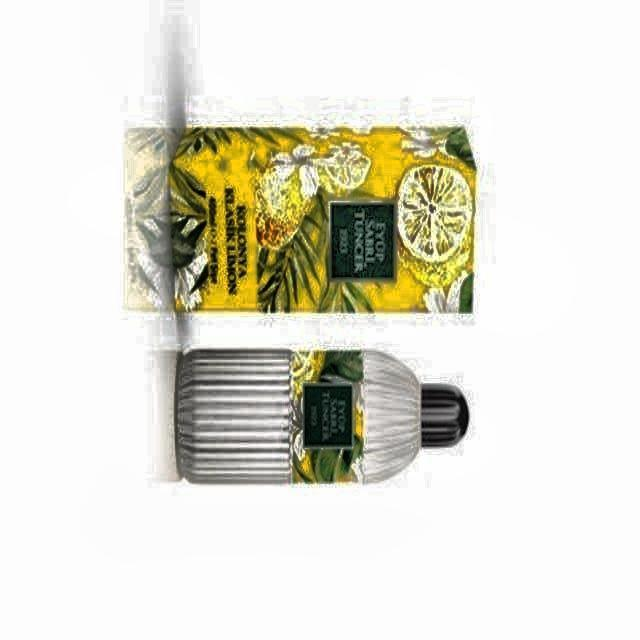cardboard: (169, 125, 477, 313)
plastic: (176, 350, 468, 482)
